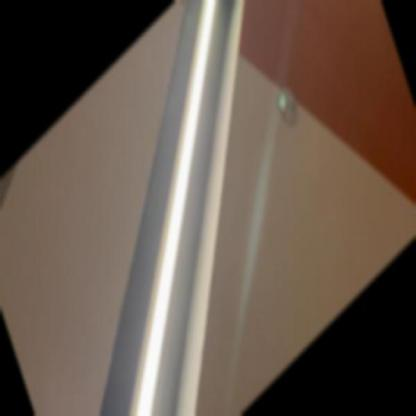light_on: (1, 0, 342, 415)
